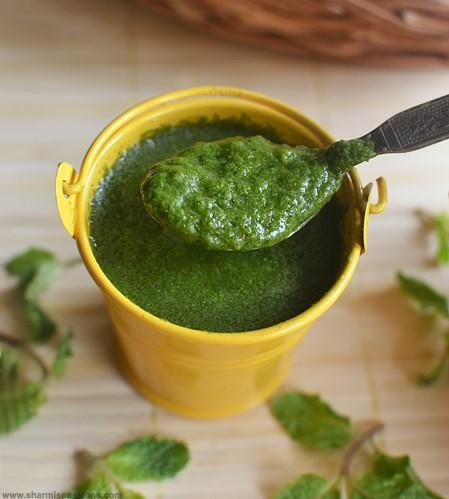GreenChutney: (87, 119, 345, 333), (146, 136, 336, 250)
